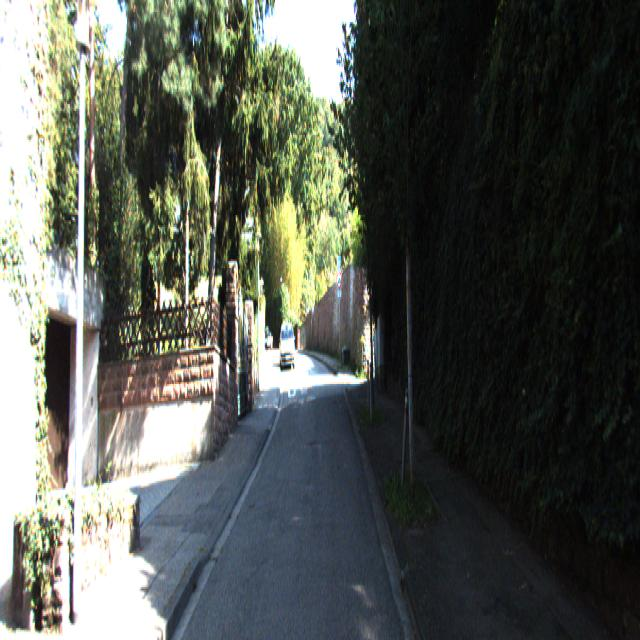Car: (279, 320, 295, 371)
